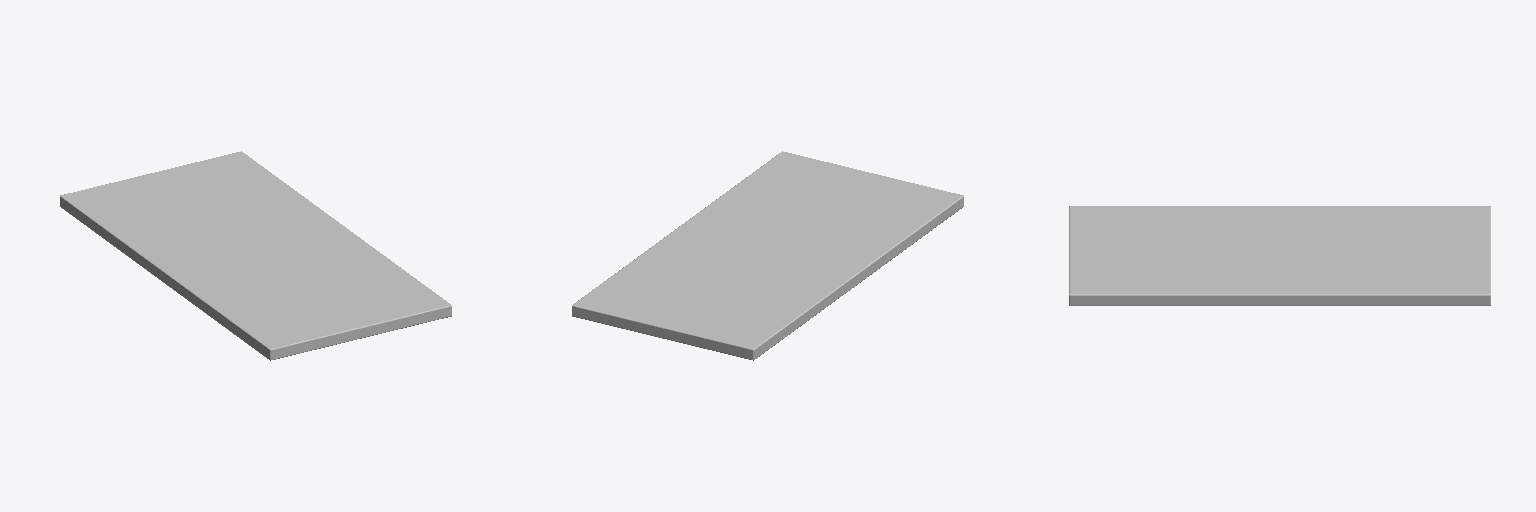
Rendered from 100х50х3 справа вертикаль плита.obj.
The picture shows the model from 3 angles: view 1: azimuth 30°, elevation 25°; view 2: azimuth 150°, elevation 25°; view 3: azimuth 270°, elevation 25°; orthographic projection.
Parts seen in each view (by area): view 1: tombstones; view 2: tombstones; view 3: tombstones.
Boxes of the visible parts, x1=… form: tombstones: x1=60, y1=151, x2=451, y2=360; tombstones: x1=572, y1=151, x2=963, y2=360; tombstones: x1=1069, y1=206, x2=1490, y2=305.
Size of the model in its own units: 50 by 3 by 100.